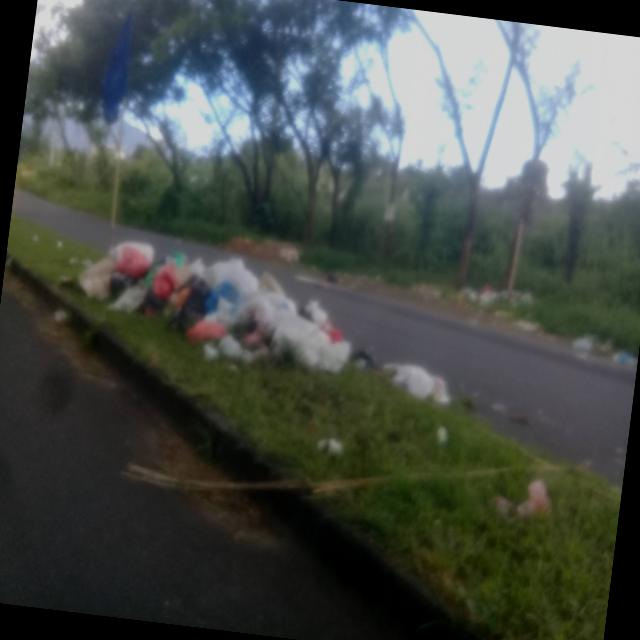garbage: (64, 197, 470, 466)
